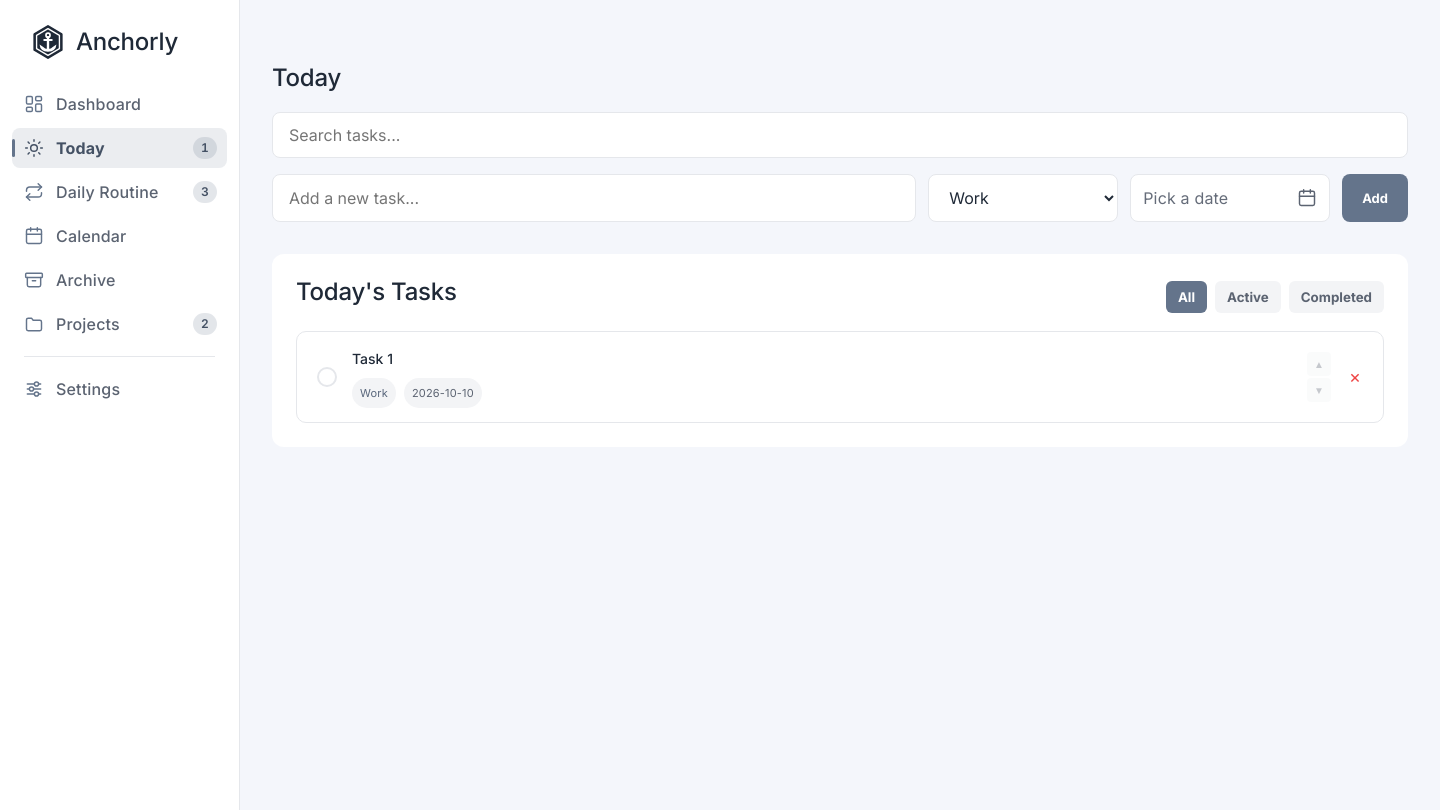
Test: App adding a task › shows a new task in the list and clears the input
This screenshot has width=1440, height=810.
Step 1. Type "Write report" into the field with placeholder "Add a new task..." → (594, 198), box [272,174,916,222]
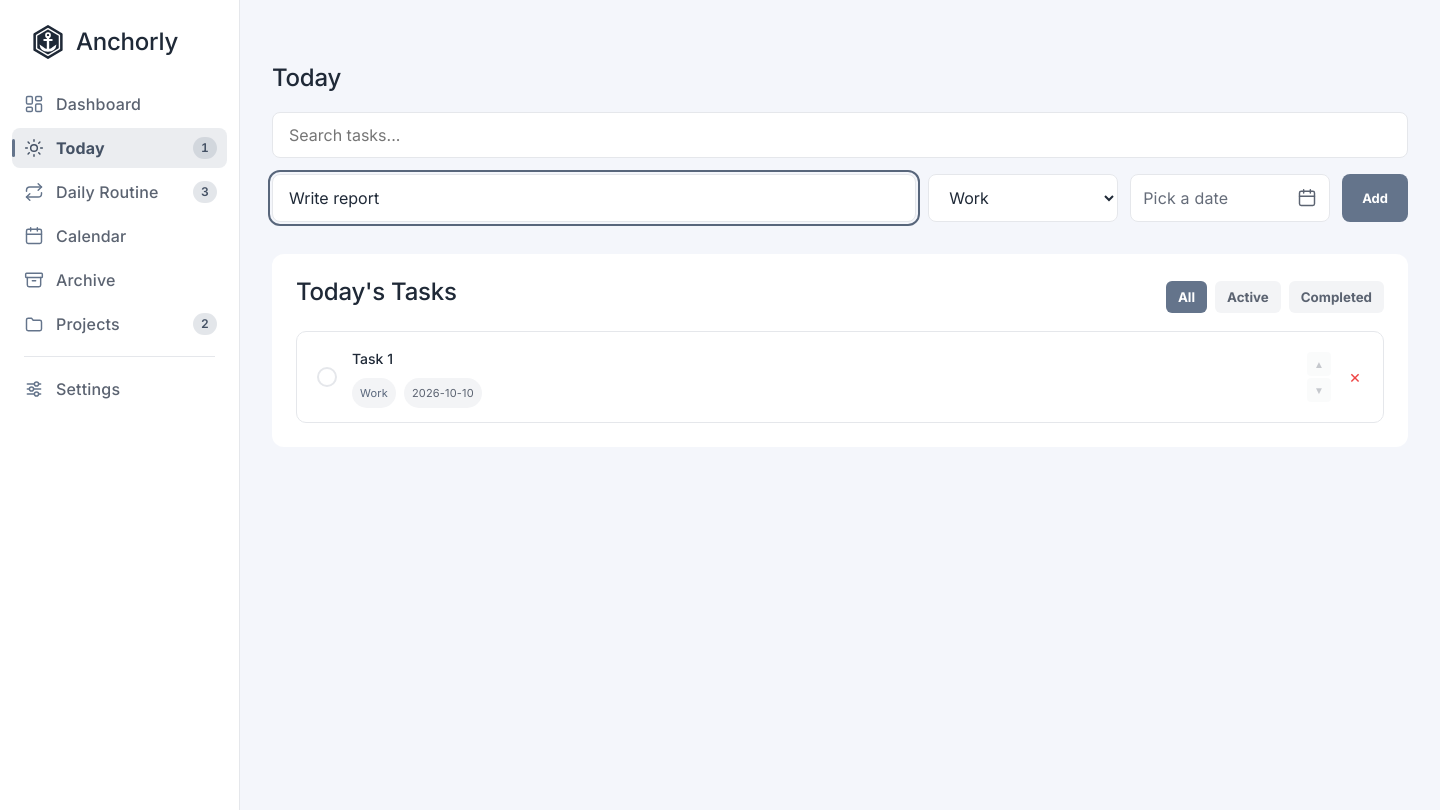
Step 2. Click the button "Add" → (1375, 198), box [1342,174,1408,222]
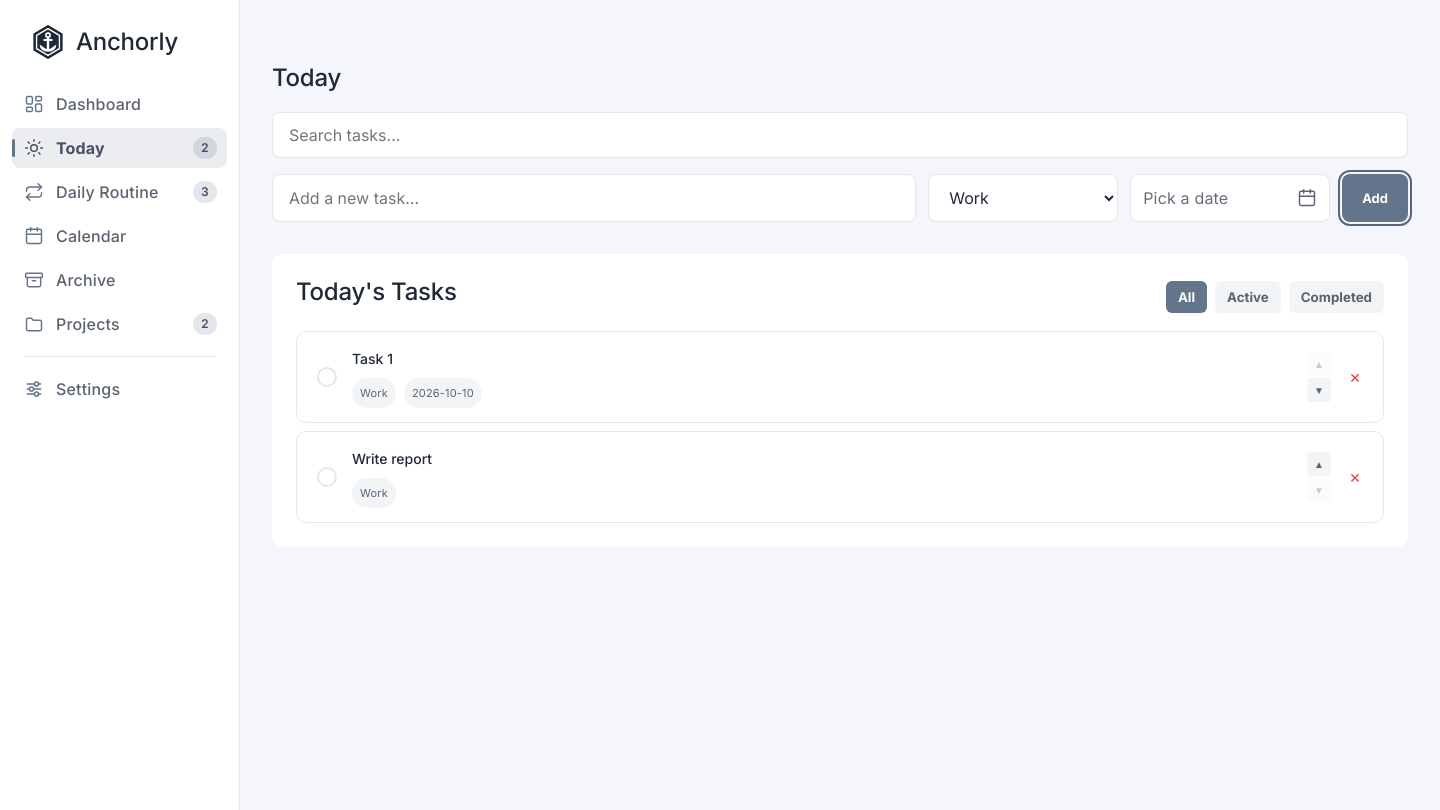
expect the list item "Write report" is shown: met, box [352,446,432,472]
expect the field with placeholder "Add a new task..." is empty: met, box [272,174,916,222]
